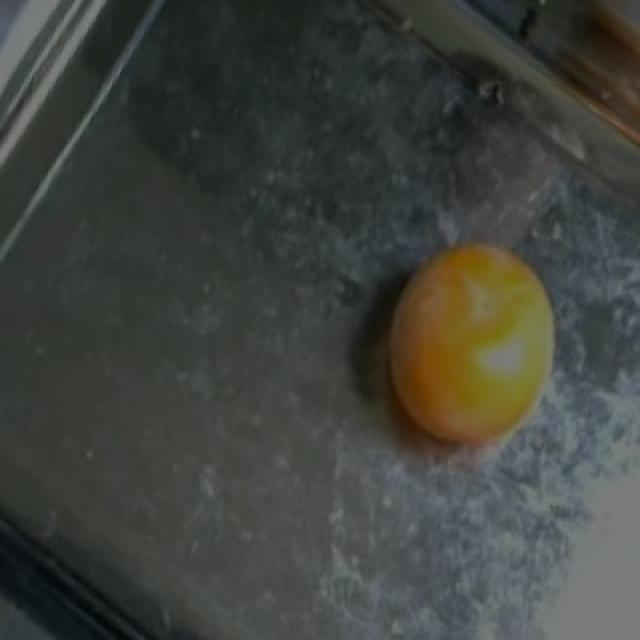Fruit: (338, 218, 582, 479), (584, 0, 640, 189)
